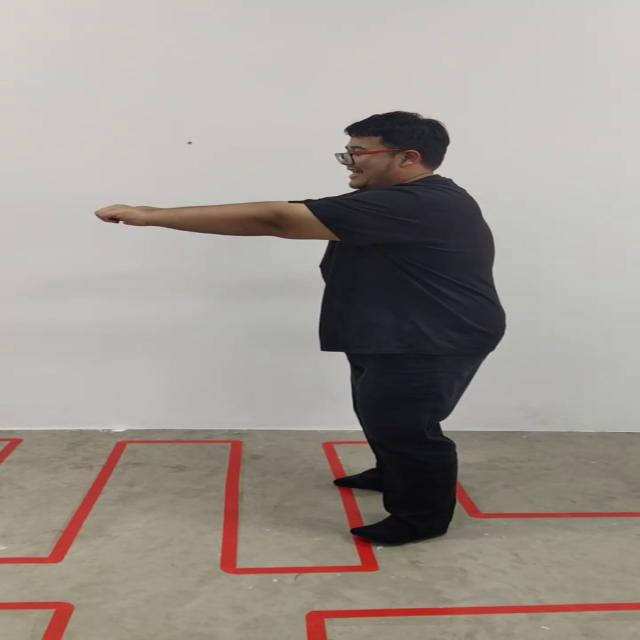stand: (96, 110, 507, 545)
